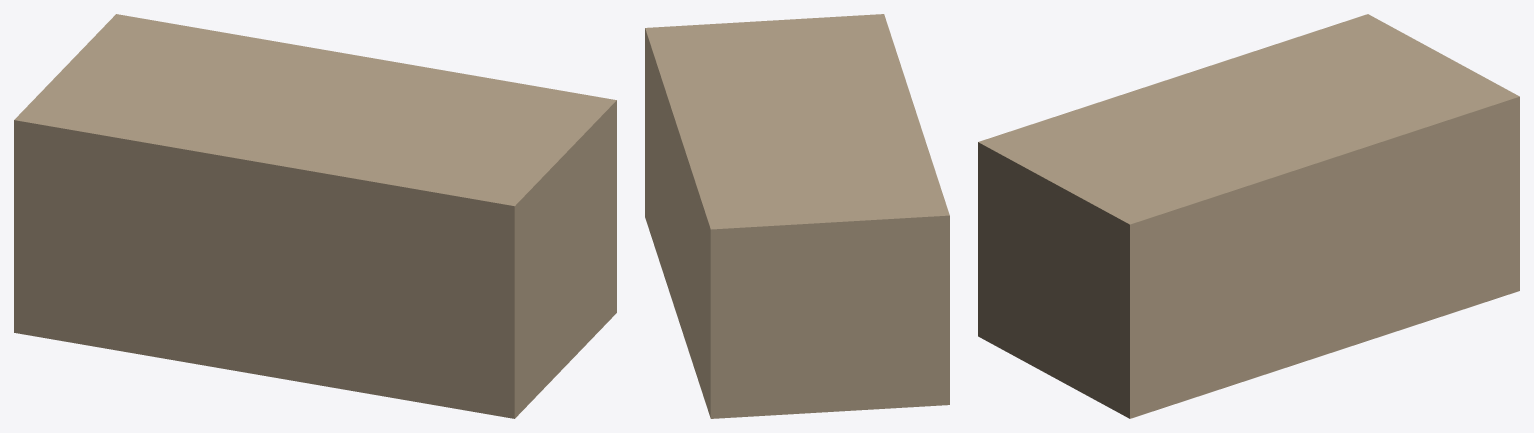
File: bld_108400927.dae
3 views of the same model, side by side, from view 1: azimuth 30°, elevation 25°; view 2: azimuth 150°, elevation 25°; view 3: azimuth 270°, elevation 25° (orthographic). The views are drawn at different scales.
Parts seen in each view (by area): view 1: bld_108400927; view 2: bld_108400927; view 3: bld_108400927.
Boxes of the visible parts, left/top/right/bottom form: bld_108400927: left=14, top=14, right=616, bottom=418; bld_108400927: left=645, top=14, right=949, bottom=418; bld_108400927: left=978, top=14, right=1519, bottom=418.
Size of the model in its own units: 18.59 by 20.22 by 8.
